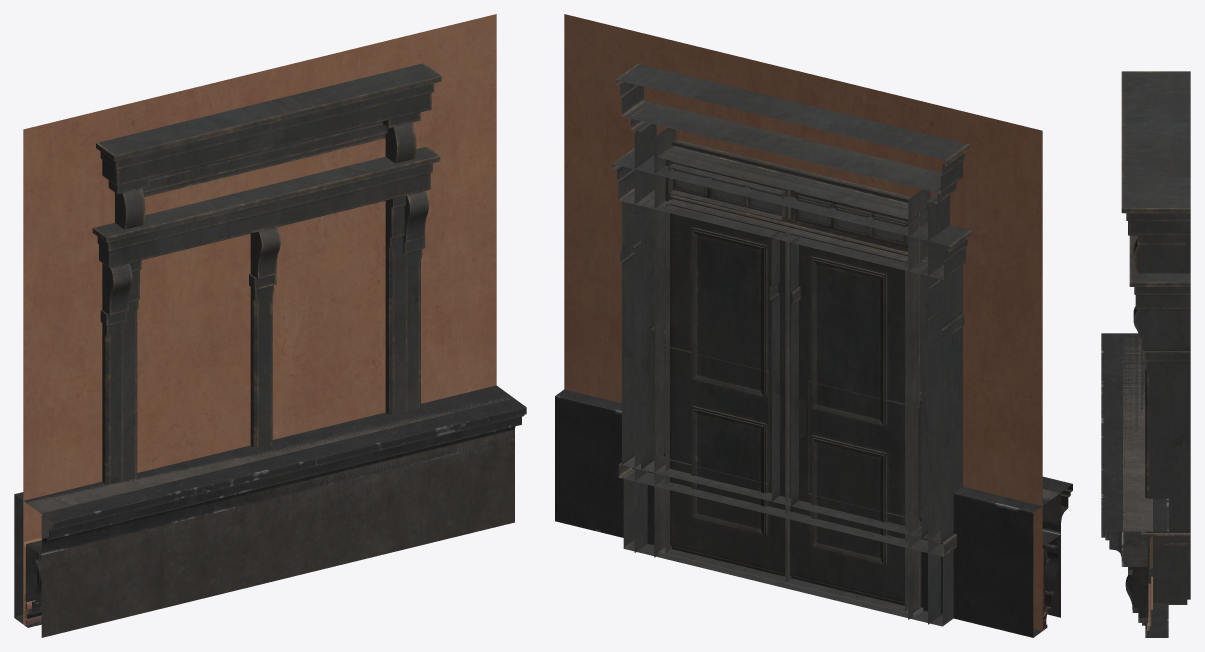
File: selected.gltf
The picture shows the model from 3 angles, left to right: view 1: azimuth 30°, elevation 25°; view 2: azimuth 150°, elevation 25°; view 3: azimuth 270°, elevation 25°; orthographic projection. The views are drawn at different scales.
Visible parts, largest first — view 1: wall_door_centered_large_01, wall_standard_standard_01, base_standard_01, door_centered_large_01, window_centered_large_02, crown_standard_standard_01, wall_window_centered_large_01, wall_window_centered_large_02; view 2: door_centered_large_01, wall_window_centered_large_01, window_centered_large_02, wall_standard_standard_01, crown_standard_standard_01, wall_window_centered_large_02, wall_door_centered_large_01, window_centered_large_01, base_standard_01; view 3: door_centered_large_01, window_centered_large_02, crown_standard_standard_01, base_standard_01, window_centered_large_01, cornice_standard_standard_01.
Part boxes in pixels (x1,y1,x2,y2): wall_door_centered_large_01: (23, 14, 496, 624); wall_standard_standard_01: (23, 26, 496, 539); base_standard_01: (26, 396, 514, 637); door_centered_large_01: (96, 63, 441, 480); window_centered_large_02: (92, 146, 440, 484); crown_standard_standard_01: (14, 385, 526, 627); wall_window_centered_large_01: (23, 14, 496, 578); wall_window_centered_large_02: (23, 37, 496, 535); door_centered_large_01: (615, 63, 969, 624); wall_window_centered_large_01: (564, 14, 1042, 630); window_centered_large_02: (612, 148, 972, 556); wall_standard_standard_01: (564, 14, 1042, 624); crown_standard_standard_01: (555, 389, 1072, 637); wall_window_centered_large_02: (564, 34, 1042, 630); wall_door_centered_large_01: (564, 58, 1042, 630); window_centered_large_01: (623, 469, 953, 626); base_standard_01: (1042, 489, 1060, 617); door_centered_large_01: (1121, 71, 1190, 599); window_centered_large_02: (1129, 235, 1190, 544); crown_standard_standard_01: (1101, 333, 1168, 637); base_standard_01: (1121, 333, 1152, 532); window_centered_large_01: (1148, 545, 1187, 604); cornice_standard_standard_01: (1146, 576, 1152, 626).
Size of the model in its own units: 3 by 3 by 0.57.
5 materials, 5 textured.
